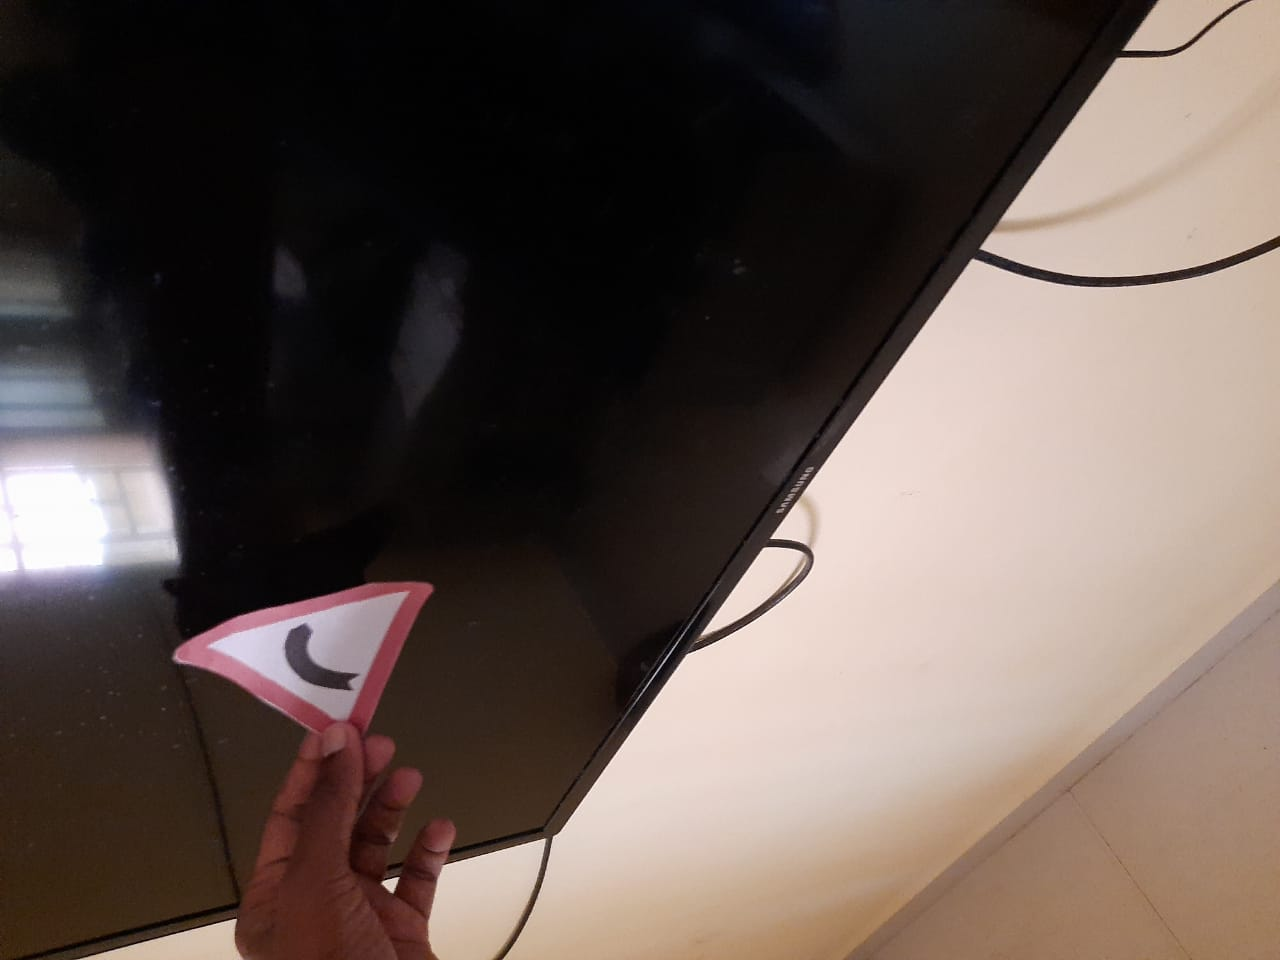RIGHT CURVE: (144, 577, 456, 758)
